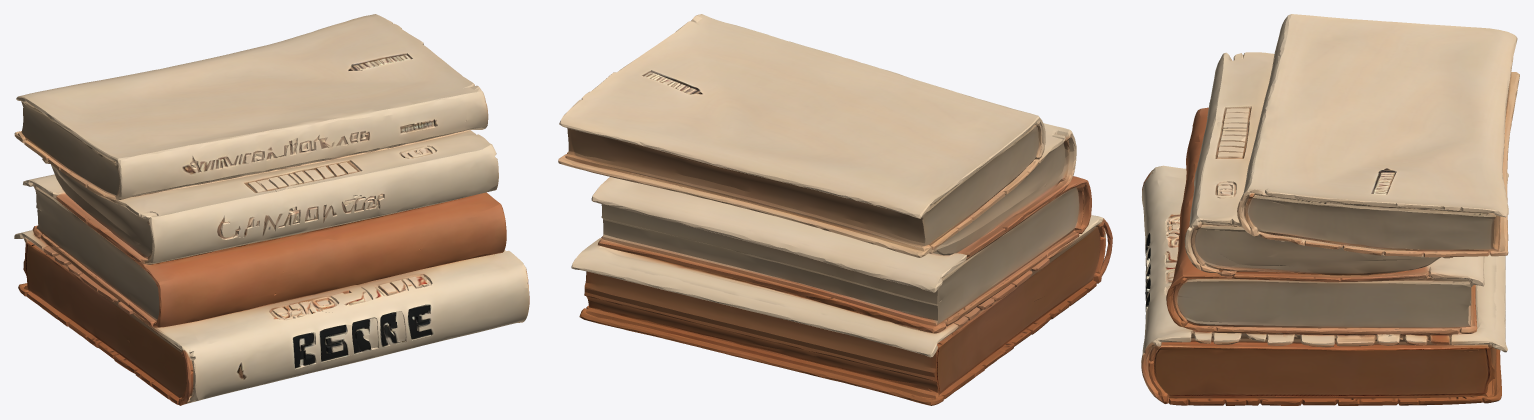
The model's file is books.glb.
3 views of the same model, side by side, from view 1: azimuth 30°, elevation 25°; view 2: azimuth 150°, elevation 25°; view 3: azimuth 270°, elevation 25° (orthographic). The views are drawn at different scales.
Parts seen in each view (by area): view 1: model; view 2: model; view 3: model.
Boxes of the visible parts, bbox=[...] form: model: bbox=[14, 14, 529, 405]; model: bbox=[558, 14, 1112, 405]; model: bbox=[1141, 14, 1519, 405].
Size of the model in its own units: 1.9 by 1.04 by 1.63.
Materials: 1 (1 with a texture image).
